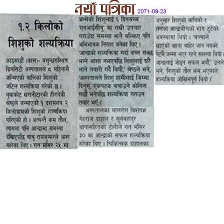book: (0, 12, 156, 151), (152, 12, 223, 86)
